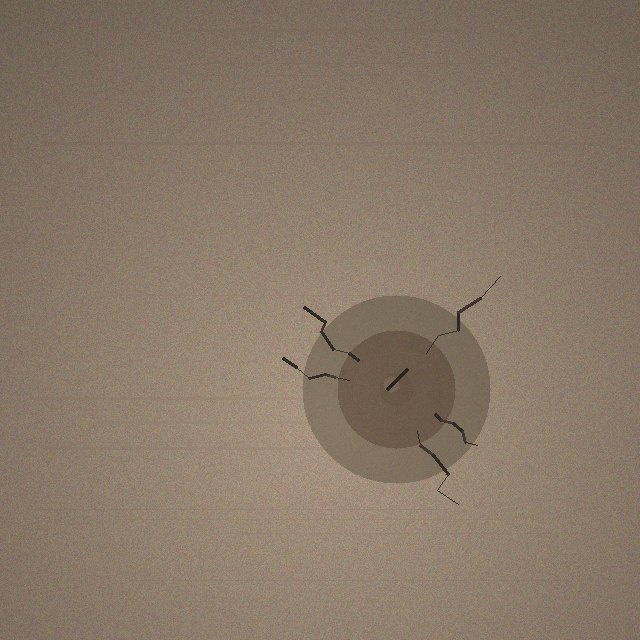crack: (302, 295, 490, 483)
